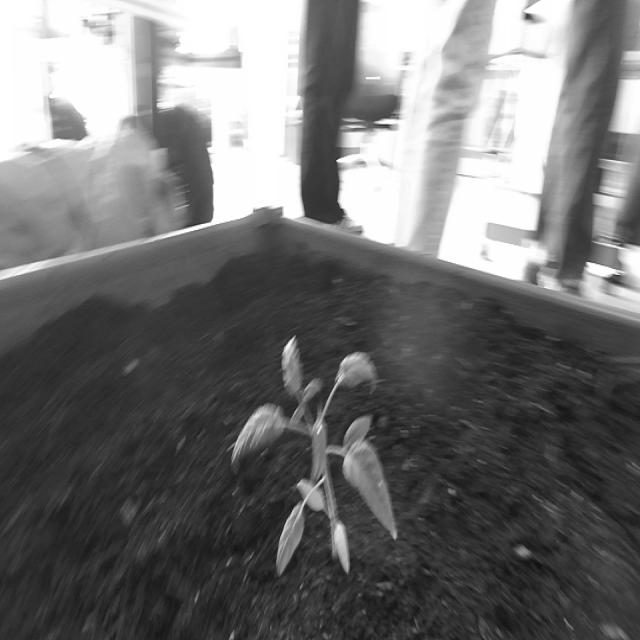Healthy: (225, 320, 411, 591)
